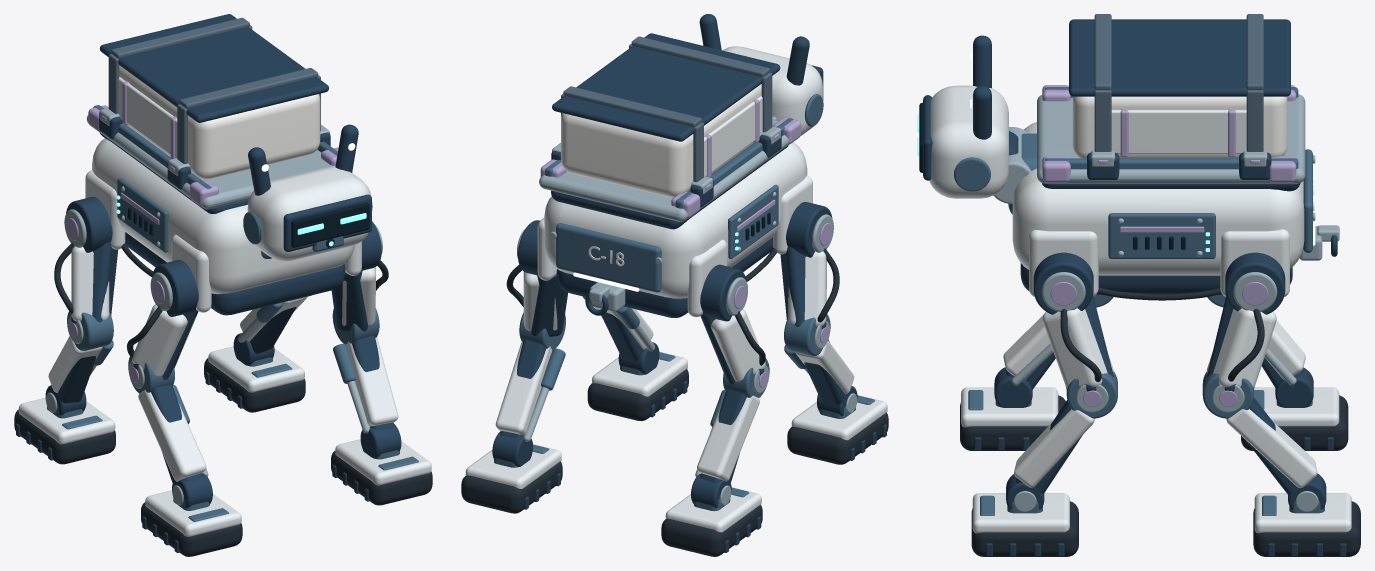
Rendered from robot-c18.glb.
The picture shows the model from 3 angles, left to right: view 1: azimuth 30°, elevation 25°; view 2: azimuth 150°, elevation 25°; view 3: azimuth 270°, elevation 25°; orthographic projection. The views are drawn at different scales.
Parts seen in each view (by area): view 1: Cargo upper lid, Round cargo hull, Sealed cargo module, Navigation head, Continuous lower chassis, Load-bearing roof deck, L front calf ceramic shield, Cargo side inset, R front calf ceramic shield, L rear toe armor, L front toe armor, R rear toe armor (+40 smaller); view 2: Cargo upper lid, Round cargo hull, Sealed cargo module, Rear battery panel, Load-bearing roof deck, Navigation head, L rear calf ceramic shield, R front broad sole, R rear broad sole, L rear broad sole, L front broad sole, Continuous lower chassis (+41 smaller); view 3: Cargo upper lid, Round cargo hull, Navigation head, Load-bearing roof deck, Cargo side inset.001, Sealed cargo module, Side electronics hatch.001, R rear calf ceramic shield, R rear upper white armor, R rear toe armor, R front upper white armor, R front toe armor (+47 smaller).
Part boxes in pixels (x1,y1,x2,y2): Cargo upper lid: (99,14,328,122); Round cargo hull: (92,138,354,294); Sealed cargo module: (119,65,320,179); Navigation head: (247,167,371,261); Continuous lower chassis: (125,232,345,315); Load-bearing roof deck: (87,115,335,209); L front calf ceramic shield: (138,390,206,481); Cargo side inset: (118,77,177,158); R front calf ceramic shield: (346,337,398,426); L rear toe armor: (18,397,115,444); L front toe armor: (145,490,241,536); R rear toe armor: (208,346,304,392); Cargo upper lid: (552,33,780,141); Round cargo hull: (544,142,807,298); Sealed cargo module: (561,84,761,197); Rear battery panel: (556,223,661,292); Load-bearing roof deck: (539,119,789,221); Navigation head: (722,46,822,135); L rear calf ceramic shield: (697,395,759,481); R front broad sole: (587,369,688,421); R rear broad sole: (461,462,562,513); L rear broad sole: (661,505,762,556); L front broad sole: (787,413,888,464); Continuous lower chassis: (556,237,773,317); Cargo upper lid: (1069,19,1290,96); Round cargo hull: (1012,122,1304,275); Navigation head: (929,85,1008,198); Load-bearing roof deck: (1037,94,1305,183); Cargo side inset.001: (1111,110,1246,154); Sealed cargo module: (1072,96,1287,158); Side electronics hatch.001: (1108,213,1215,258); R rear calf ceramic shield: (1226,409,1317,487); R rear upper white armor: (1207,308,1276,387); R rear toe armor: (1254,493,1351,533); R front upper white armor: (1042,308,1113,388); R front toe armor: (972,493,1069,533).
Bounding box in the file's own units: 1.86 × 2.73 × 2.48.
